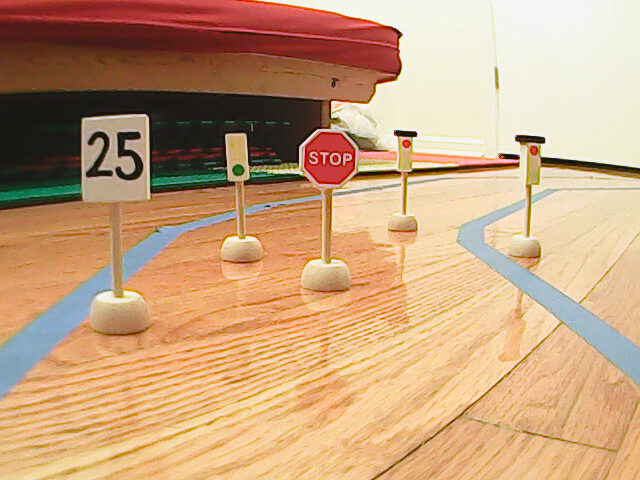Green Traffic Light: (223, 132, 251, 184)
Red Traffic Light: (515, 133, 547, 191), (393, 129, 417, 182)
Speed Limit 25: (78, 111, 153, 204)
Stop Sign: (298, 129, 361, 193)
